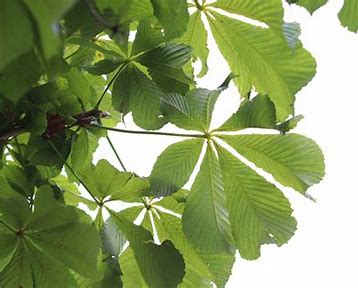inorganic: (4, 5, 324, 288)
